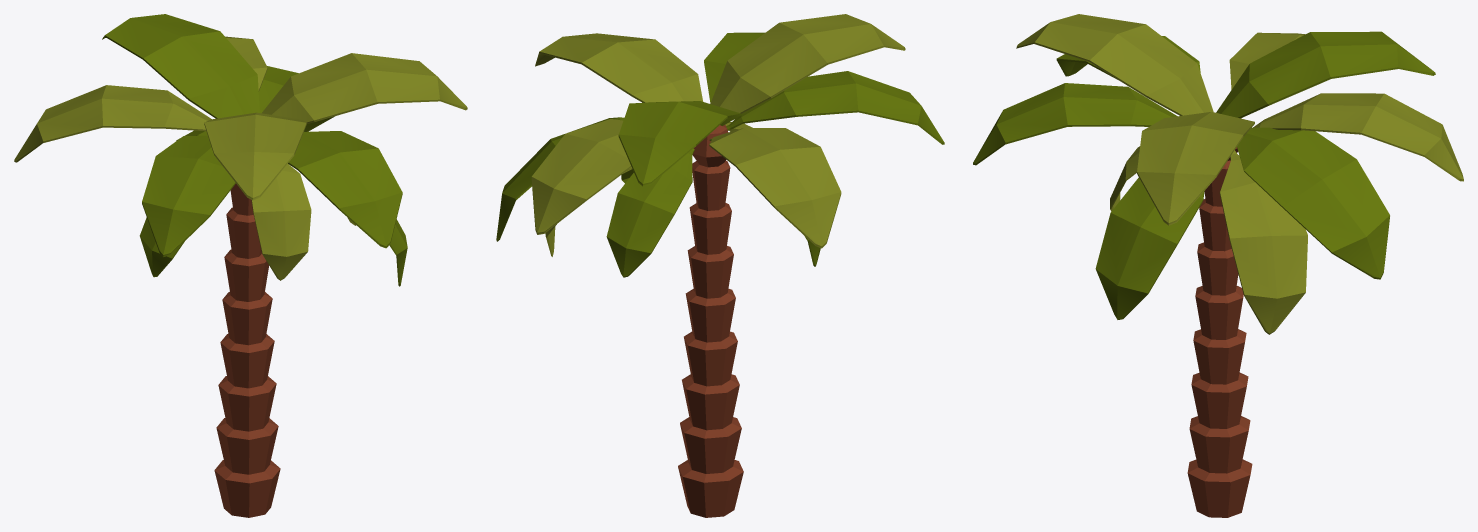
Rendered from Tree_09_Spring.fbx.
3 views of the same model, side by side, from view 1: azimuth 30°, elevation 25°; view 2: azimuth 150°, elevation 25°; view 3: azimuth 270°, elevation 25° (orthographic). The views are drawn at different scales.
Visible parts, largest first — view 1: Tree_09_p2_Spring, Tree_09_p1_Spring; view 2: Tree_09_p2_Spring, Tree_09_p1_Spring; view 3: Tree_09_p2_Spring, Tree_09_p1_Spring.
Boxes of the visible parts, <box> form: Tree_09_p2_Spring: <box>14,14,467,286</box>; Tree_09_p1_Spring: <box>214,183,280,517</box>; Tree_09_p2_Spring: <box>496,14,944,277</box>; Tree_09_p1_Spring: <box>678,125,743,517</box>; Tree_09_p2_Spring: <box>973,14,1463,334</box>; Tree_09_p1_Spring: <box>1187,147,1252,517</box>.
Size of the model in its own units: 333 by 380 by 373.
